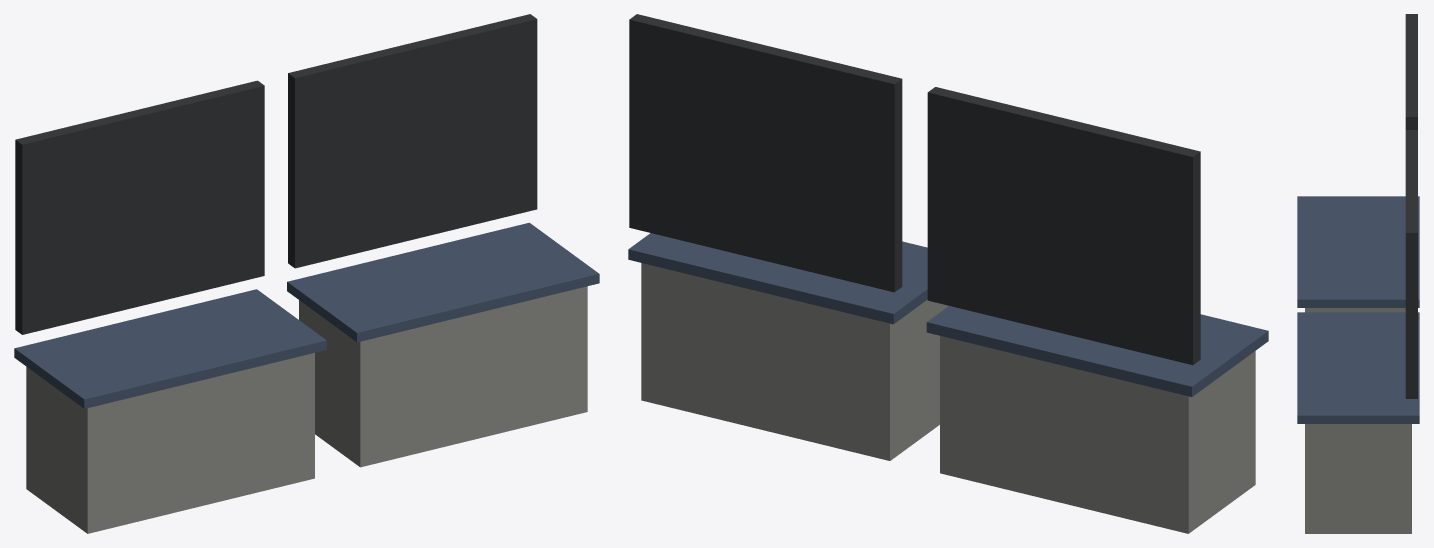
File: ms1_bench.obj
3 renders of one model, left to right at view 1: azimuth 30°, elevation 25°; view 2: azimuth 150°, elevation 25°; view 3: azimuth 270°, elevation 25°, orthographic. The views are drawn at different scales.
Parts seen in each view (by area): view 1: ms1_bench; view 2: ms1_bench; view 3: ms1_bench.
Part boxes in pixels (x1=…): ms1_bench: x1=14, y1=14, x2=599, y2=533; ms1_bench: x1=628, y1=14, x2=1268, y2=533; ms1_bench: x1=1297, y1=14, x2=1419, y2=533.
Bounding box in the file's own units: 3.4 × 2.2 × 0.8.
